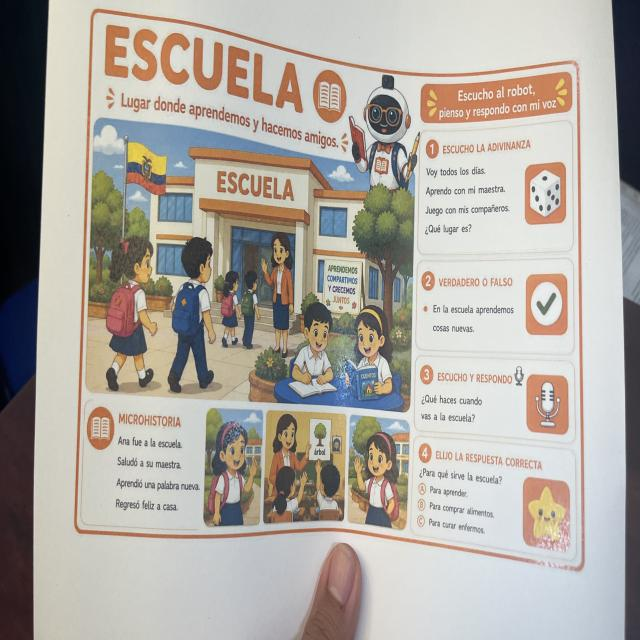escuela: (72, 6, 588, 578)
